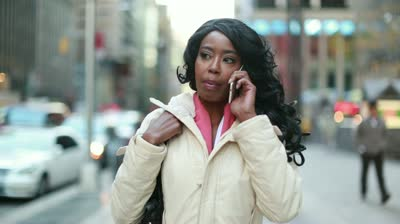phone: (226, 66, 260, 105)
talk: (195, 46, 260, 117)
